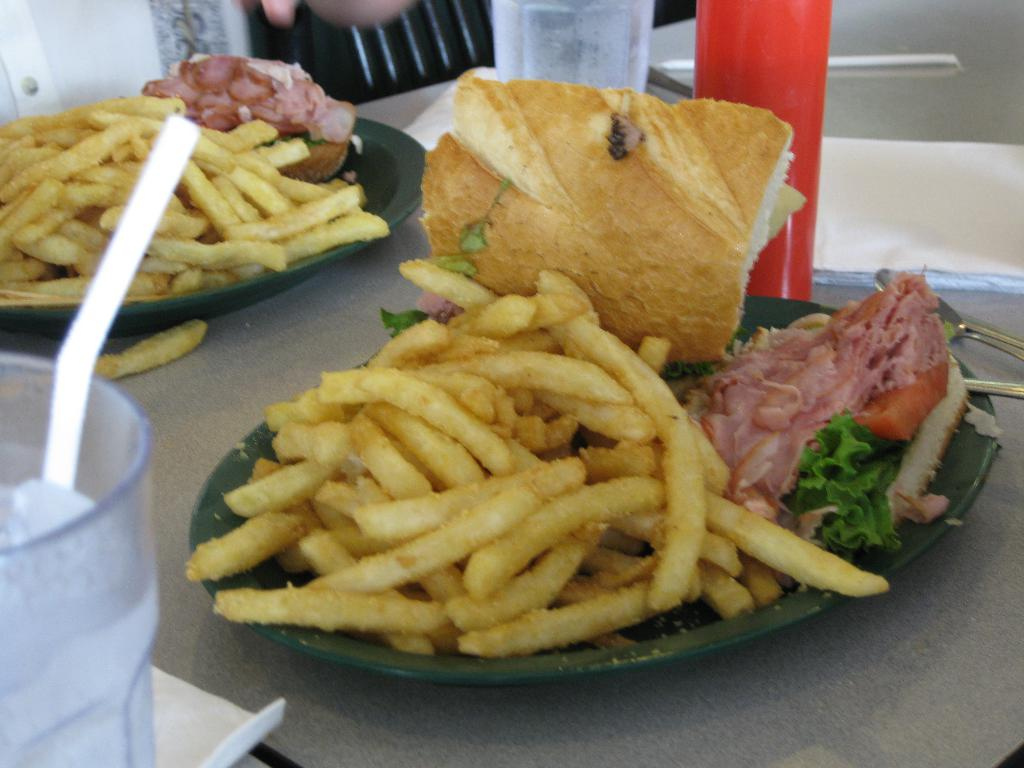French fries: (180, 254, 890, 656), (0, 94, 390, 380)
